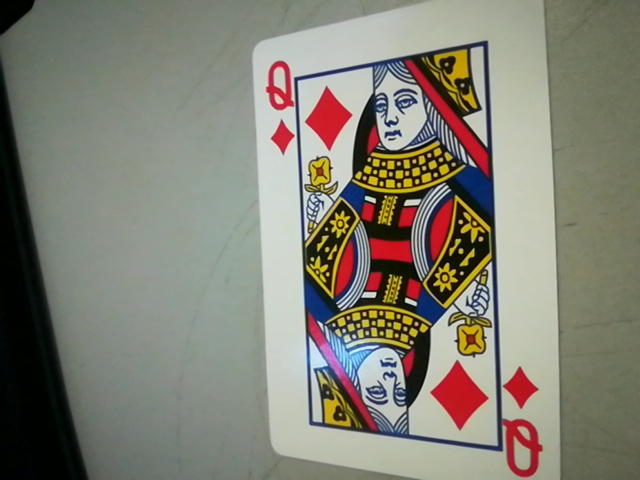fk q: (493, 364, 556, 480)
